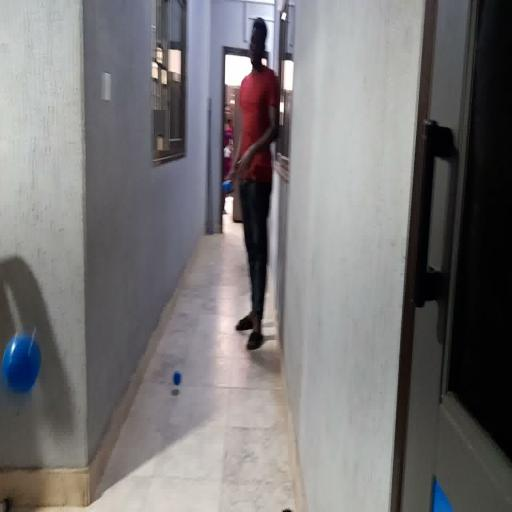plastic-ball: (0, 332, 43, 397)
